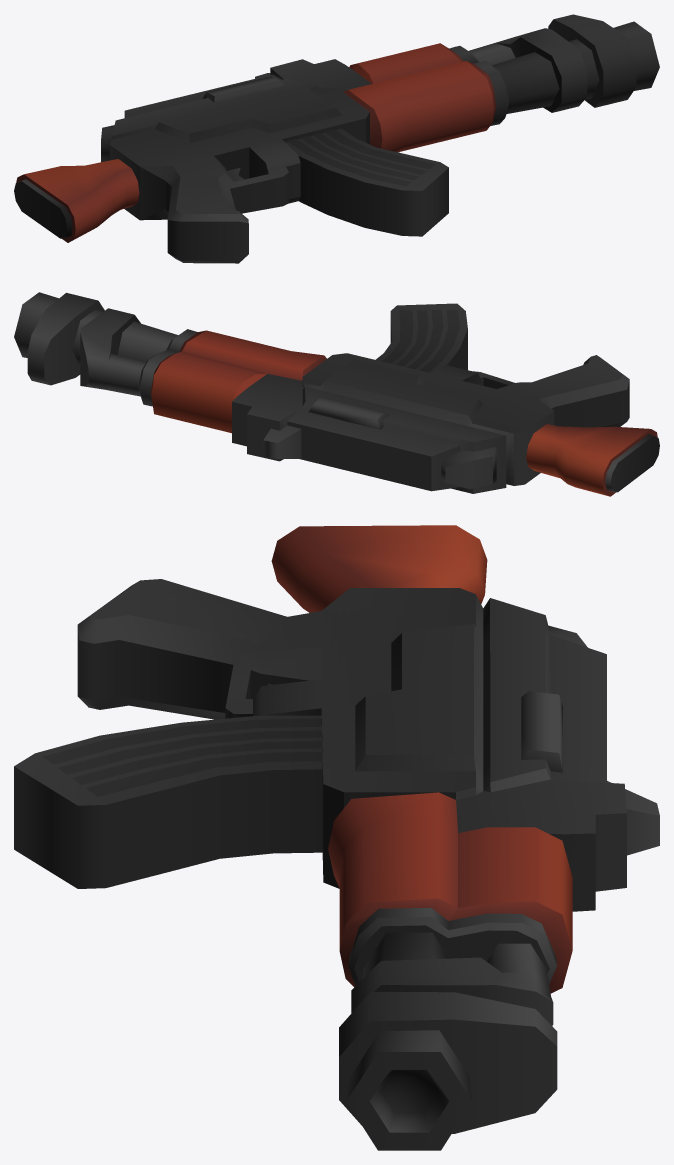
File: Weapon_AK47.fbx
The picture shows the model from 3 angles, top to bottom: view 1: azimuth 30°, elevation 25°; view 2: azimuth 150°, elevation 25°; view 3: azimuth 270°, elevation 25°; orthographic projection. The views are drawn at different scales.
Visible parts, largest first — view 1: Weapon_AK47; view 2: Weapon_AK47; view 3: Weapon_AK47.
Boxes of the visible parts, box(x1,y1,x2,y2) form: Weapon_AK47: box(14, 14, 659, 263); Weapon_AK47: box(14, 292, 659, 496); Weapon_AK47: box(14, 525, 659, 1150).
Bounding box in the file's own units: 0.7151 × 0.0748 × 0.3576.
